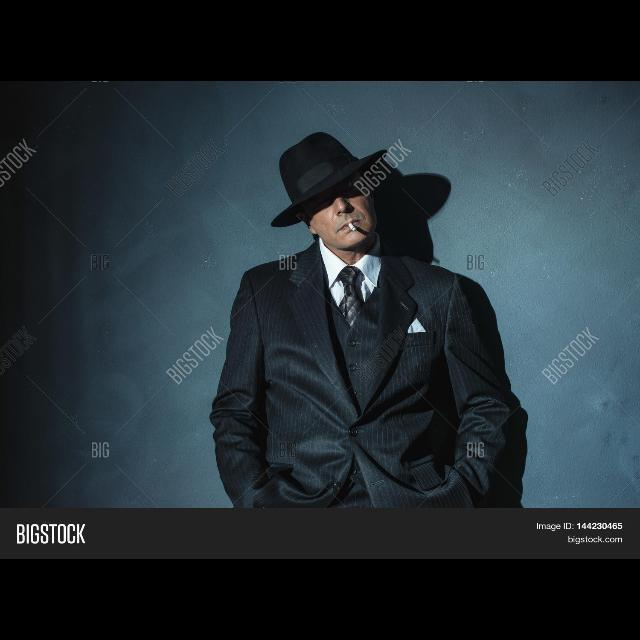rokok: (346, 222, 358, 234)
